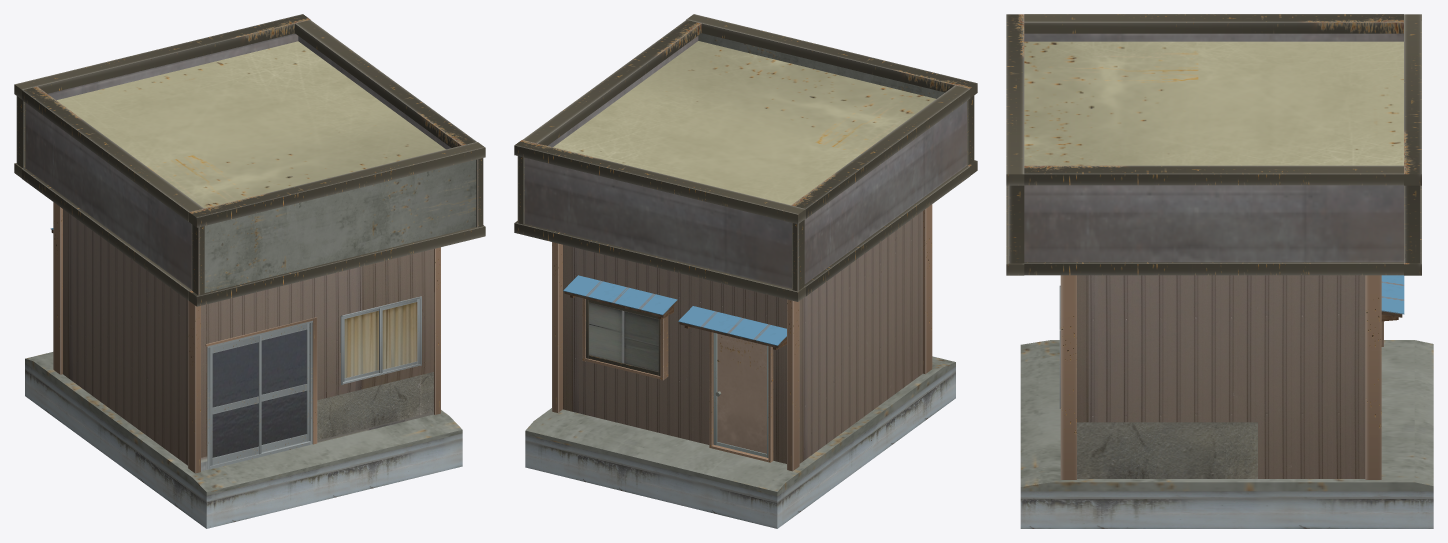
The model's file is ms_small_1.fbx.
The picture shows the model from 3 angles, left to right: view 1: azimuth 30°, elevation 25°; view 2: azimuth 150°, elevation 25°; view 3: azimuth 270°, elevation 25°; orthographic projection. The views are drawn at different scales.
Visible parts, largest first — view 1: ms_small_1; view 2: ms_small_1; view 3: ms_small_1.
Part boxes in pixels (x1,y1,x2,y2): ms_small_1: (14, 14, 485, 528); ms_small_1: (514, 14, 977, 528); ms_small_1: (1006, 14, 1433, 528).
Bounding box in the file's own units: 592 × 667 × 626.
Materials: 5 (5 with a texture image).
